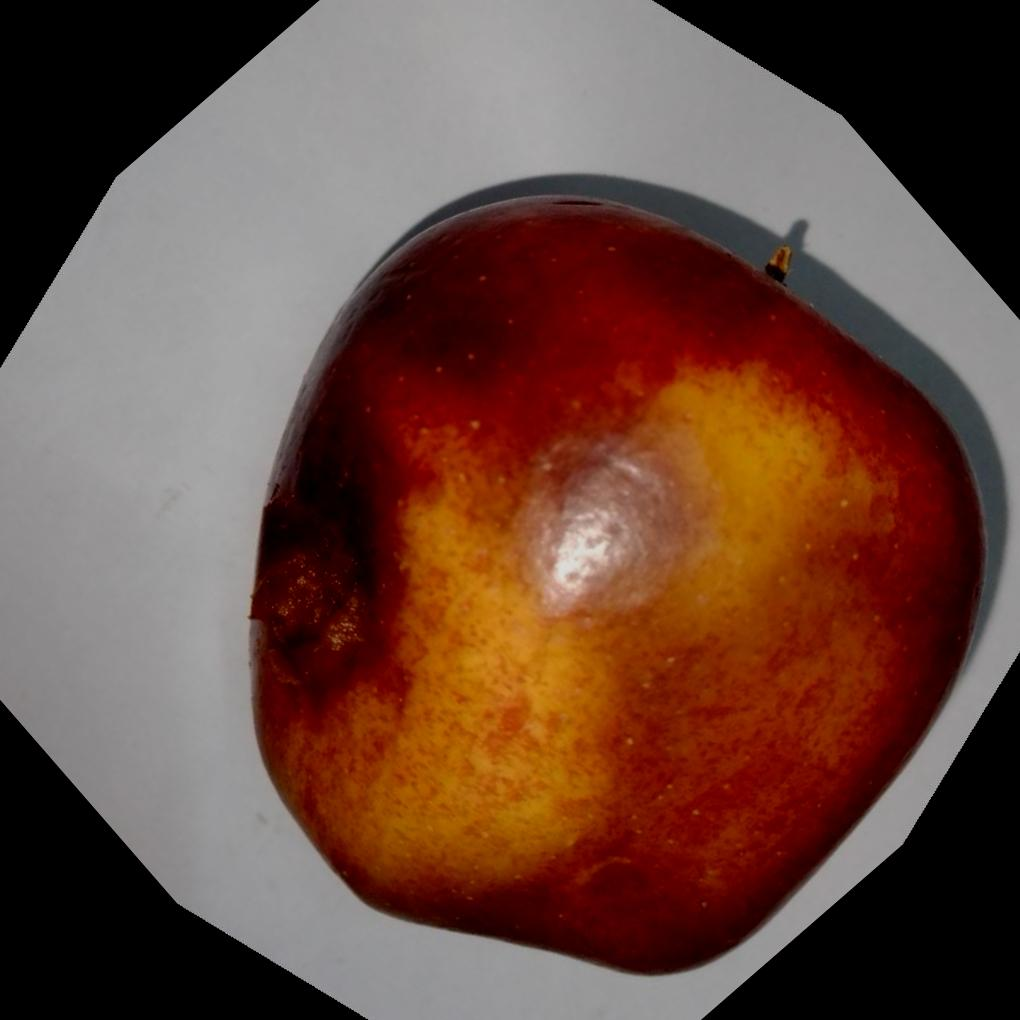FreshOrange: (244, 192, 986, 979)
